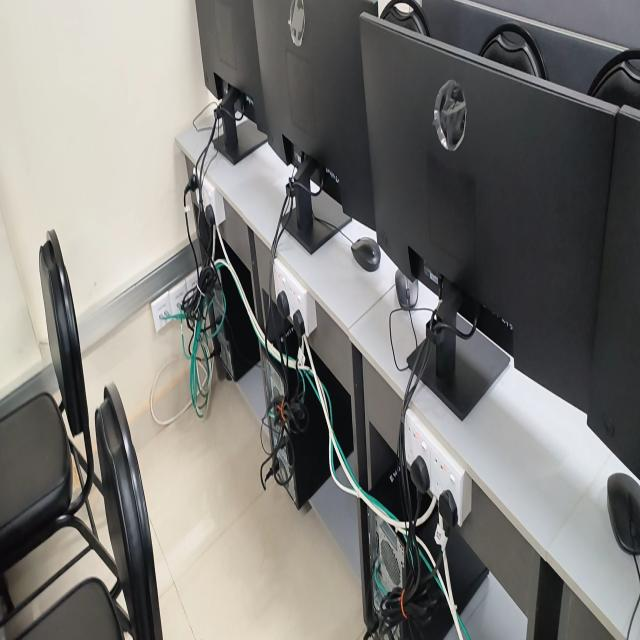Chair: (0, 231, 117, 591), (19, 384, 162, 639), (479, 24, 546, 78), (587, 49, 640, 110), (379, 0, 431, 36)
Cpu: (285, 379, 330, 509), (210, 267, 259, 380), (363, 511, 405, 623), (310, 349, 353, 457), (394, 576, 453, 639), (446, 526, 488, 613), (225, 242, 254, 309), (419, 506, 445, 580), (370, 465, 403, 519), (261, 348, 285, 409), (285, 369, 303, 398), (200, 218, 212, 260), (282, 331, 298, 357)
Monitor: (360, 14, 618, 410), (253, 0, 377, 229), (587, 107, 640, 477), (196, 0, 267, 163)
Mouse: (607, 472, 640, 580), (395, 269, 419, 311), (351, 237, 380, 271)
